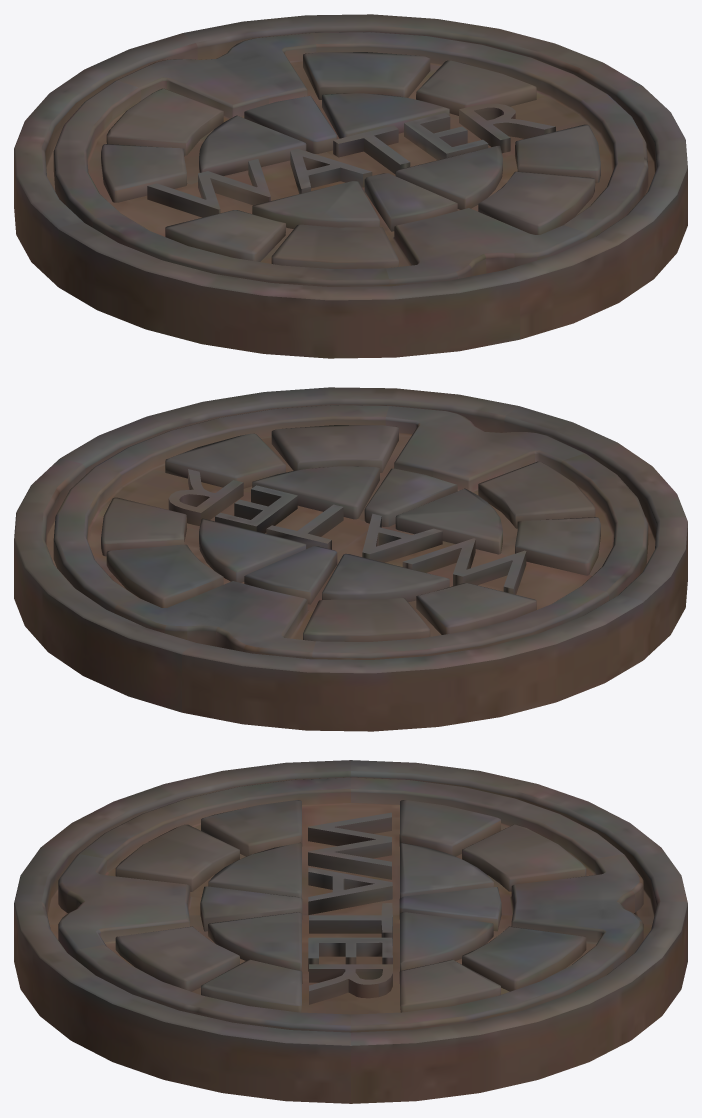
The model's file is water_manhole_cover_lod1.glb.
3 views of the same model, one above another, from view 1: azimuth 30°, elevation 25°; view 2: azimuth 150°, elevation 25°; view 3: azimuth 270°, elevation 25° (orthographic).
Visible parts, largest first — view 1: water_manhole_cover_frame; view 2: water_manhole_cover_frame; view 3: water_manhole_cover_frame.
Boxes of the visible parts, x1,y1,x2,y2 form: water_manhole_cover_frame: [14, 14, 687, 358]; water_manhole_cover_frame: [14, 387, 687, 731]; water_manhole_cover_frame: [14, 760, 687, 1103].
Size of the model in its own units: 0.6908 by 0.0676 by 0.6908.
1 material, 1 textured.
